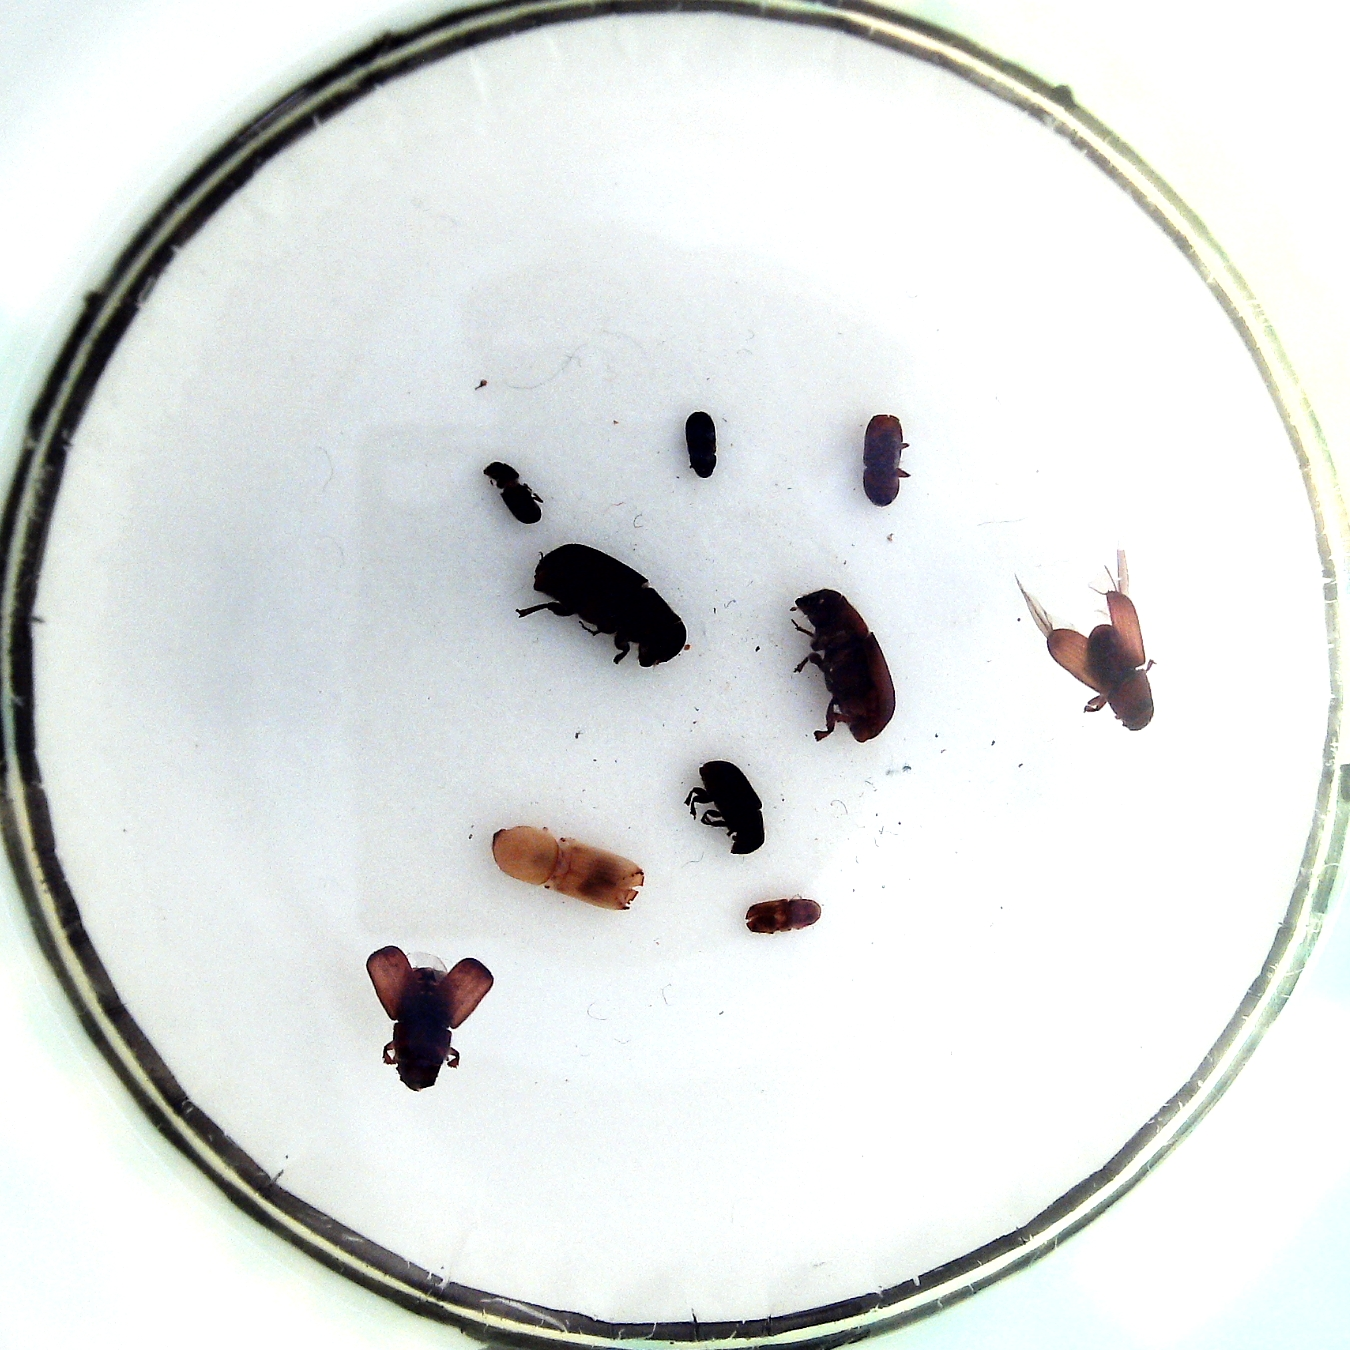Boerner: (492, 825, 645, 912)
Leconte: (534, 541, 686, 668), (794, 588, 898, 743), (391, 962, 455, 1090), (1082, 622, 1155, 731), (483, 460, 540, 523)
armandi: (698, 759, 765, 855)
coleoptera: (745, 898, 821, 932), (684, 410, 715, 478)
linnaeus: (862, 413, 902, 508)
